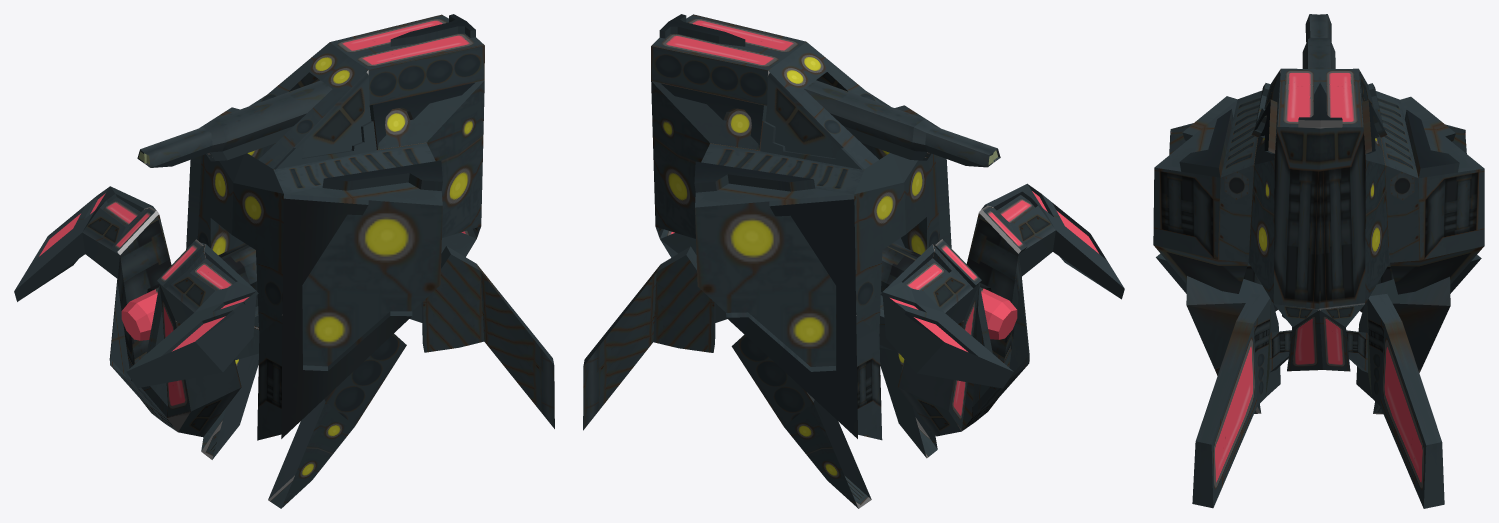
The model's file is Pawn.fbx.
3 renders of one model, left to right at view 1: azimuth 30°, elevation 25°; view 2: azimuth 150°, elevation 25°; view 3: azimuth 270°, elevation 25°, orthographic.
Parts seen in each view (by area): view 1: Cube.003; view 2: Cube.003; view 3: Cube.003.
Boxes of the visible parts, bbox=[...] form: Cube.003: bbox=[14, 14, 554, 508]; Cube.003: bbox=[583, 14, 1124, 508]; Cube.003: bbox=[1153, 14, 1484, 508].
Bounding box in the file's own units: 3095 × 2763 × 2038.
